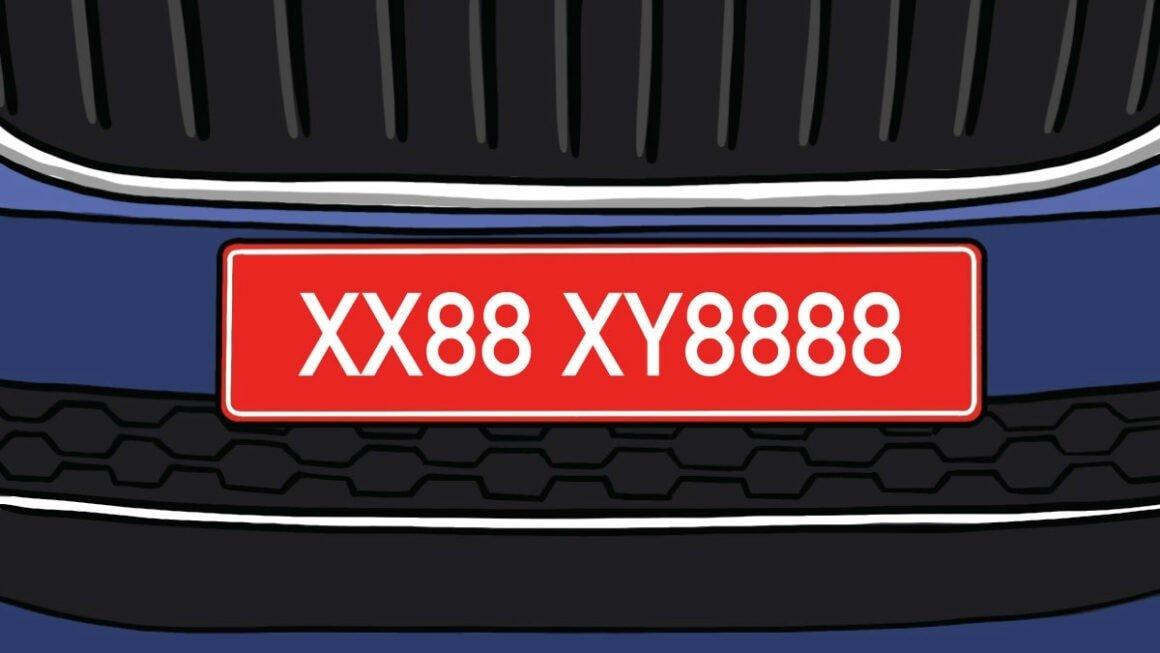Liscence Plate: (227, 243, 973, 414)
